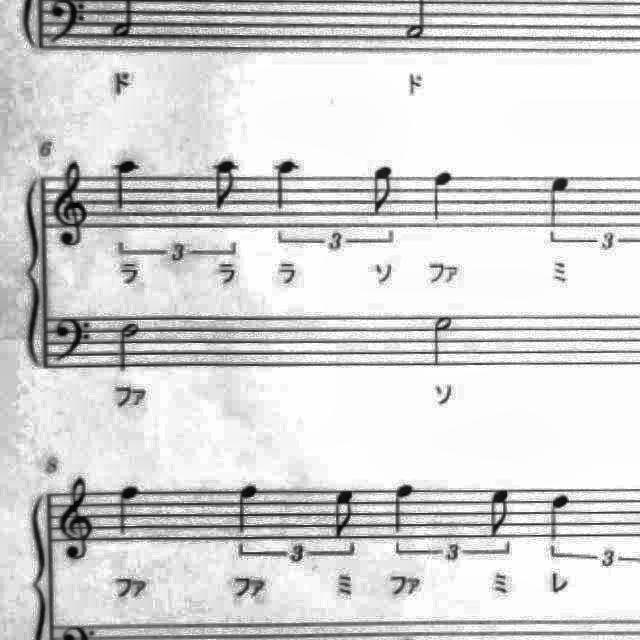Bass-clef: (49, 313, 99, 372)
Eighth-note: (203, 154, 245, 218), (328, 484, 364, 544), (366, 159, 402, 219), (482, 482, 518, 542)
Half-note: (424, 311, 460, 374), (112, 316, 148, 376)
Quarter-note: (266, 152, 308, 216), (540, 170, 580, 236), (112, 156, 152, 220), (425, 164, 463, 228), (112, 479, 148, 541), (542, 489, 578, 547), (384, 478, 420, 536), (231, 478, 265, 538)
Treble-clef: (49, 152, 96, 252), (54, 476, 102, 568)
